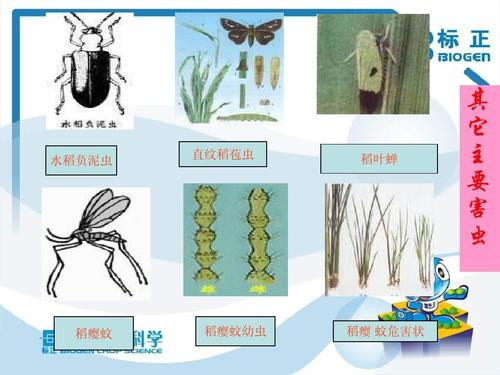Cecidomyiidae: (45, 191, 147, 297)
